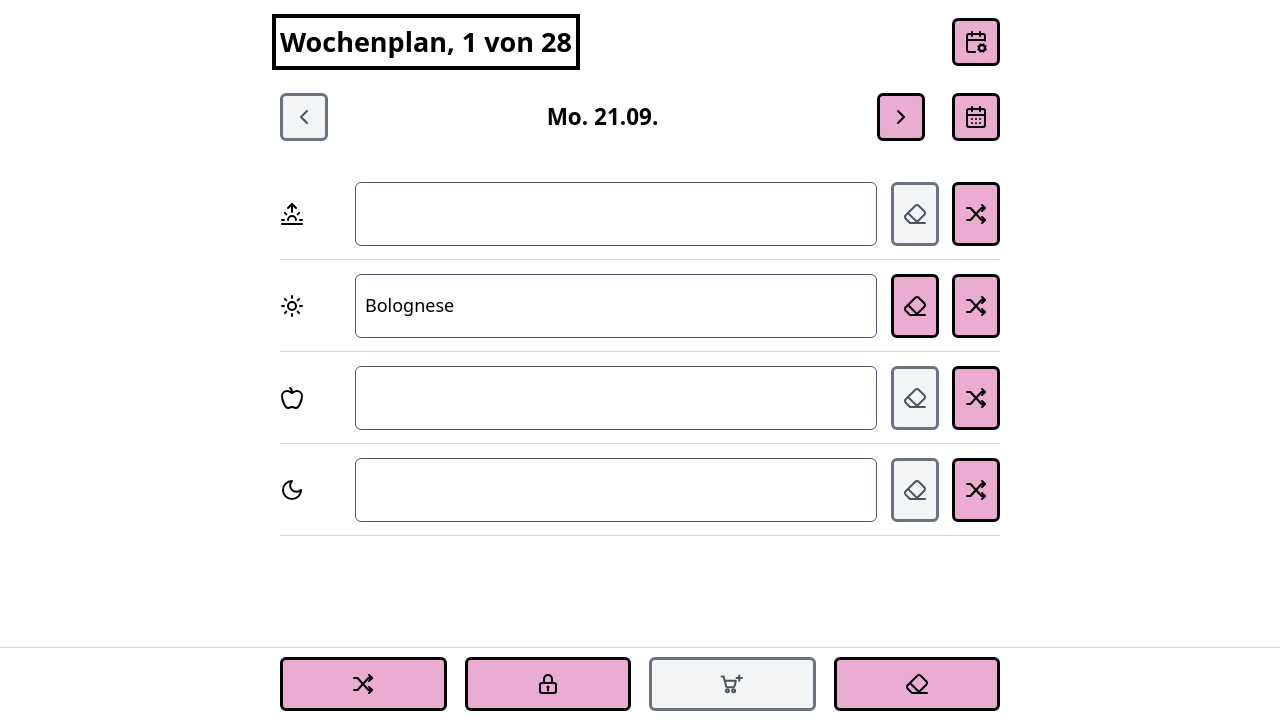
Scenario: WeekPlanArea › empties a meal time when the field is cleared
Clear the field named "Mittagessen" at coordinates (616, 306), box [355, 274, 877, 338]
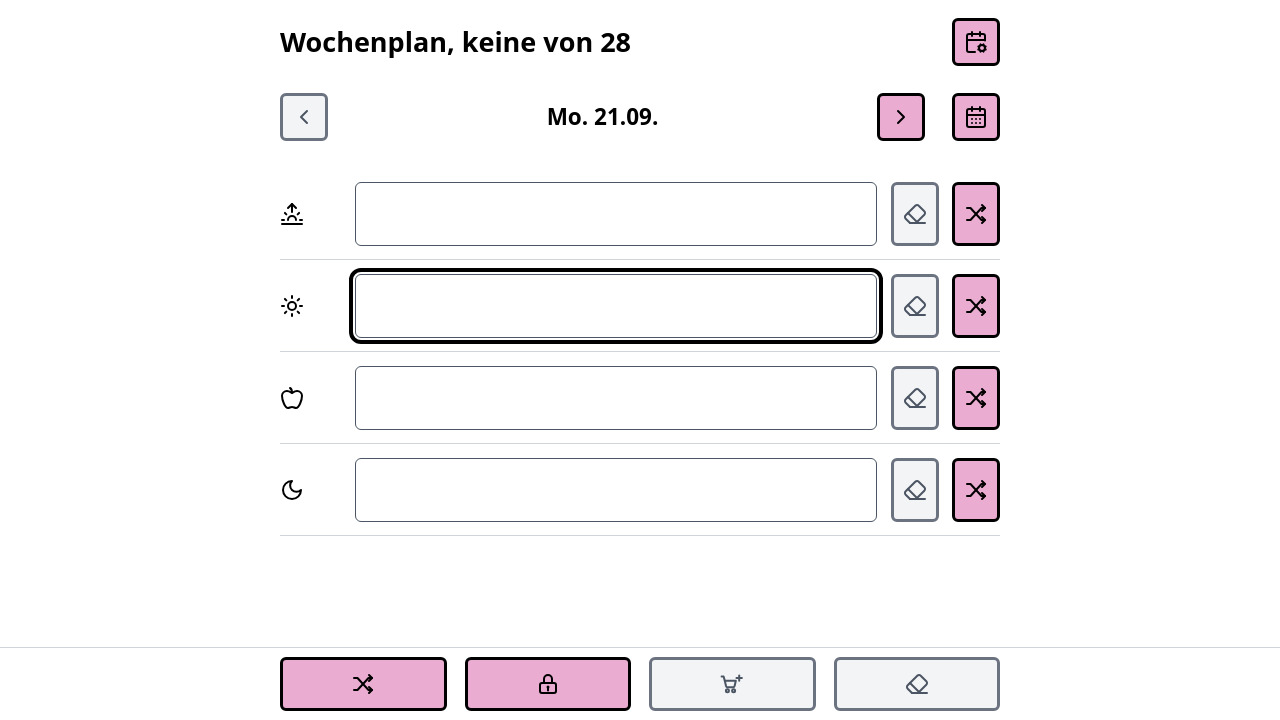
Expected: the heading "Wochenplan, keine von 28" is shown, [280, 22, 631, 62]
